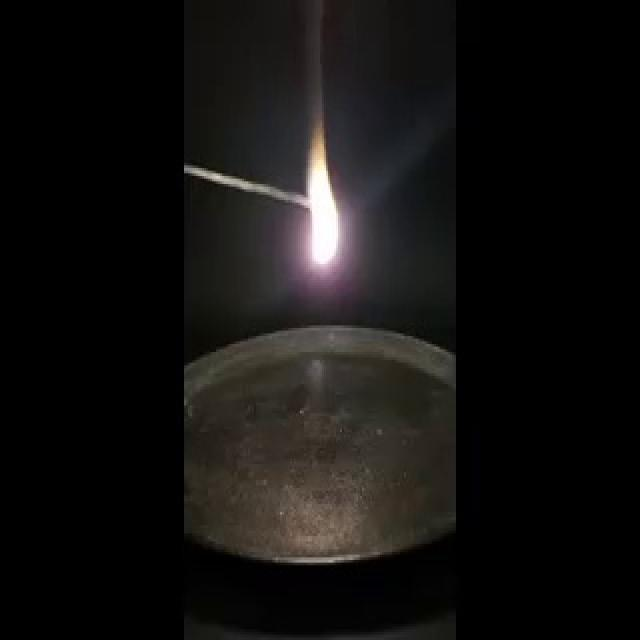fire: (299, 105, 341, 271)
